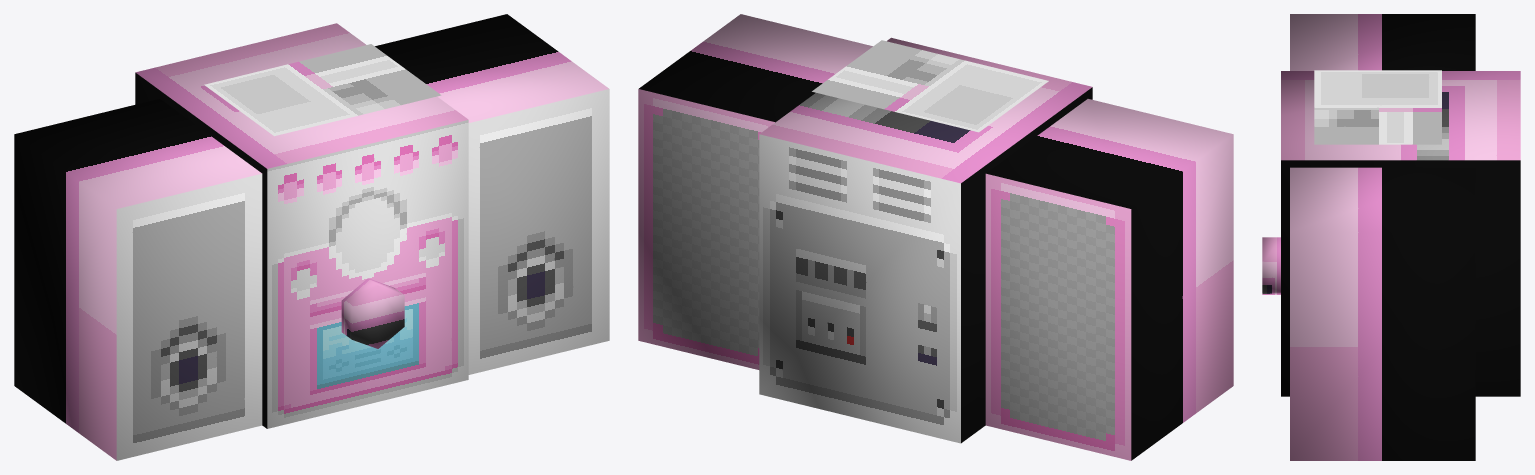
3 renders of one model, left to right at view 1: azimuth 30°, elevation 25°; view 2: azimuth 150°, elevation 25°; view 3: azimuth 270°, elevation 25°, orthographic. The views are drawn at different scales.
Parts seen in each view (by area): view 1: 3485IMEL01_02; view 2: 3485IMEL01_02; view 3: 3485IMEL01_02.
Boxes of the visible parts, <box> form: 3485IMEL01_02: <box>14,14,609,460</box>; 3485IMEL01_02: <box>638,14,1233,460</box>; 3485IMEL01_02: <box>1262,14,1520,460</box>.
Bounding box in the file's own units: 1.49 × 0.7878 × 0.7427.
4 materials, 4 textured.
